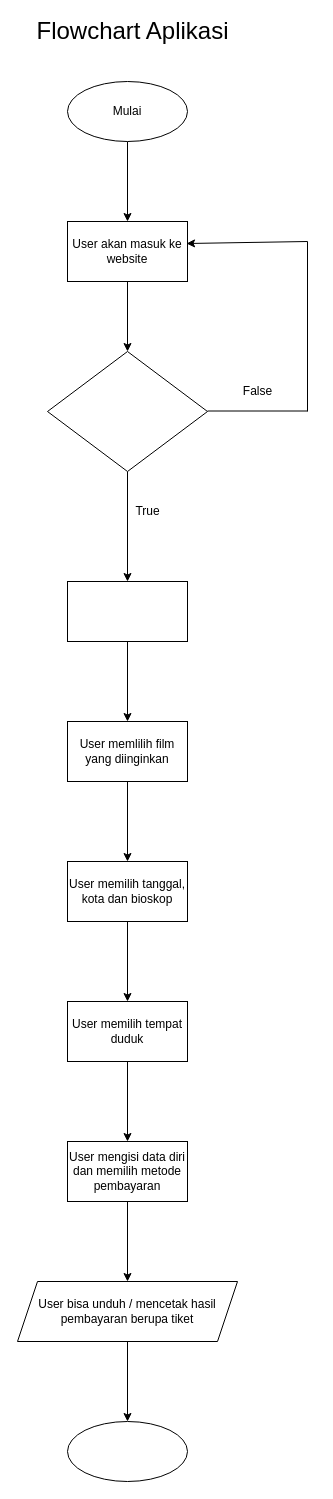
Some shapes in this 333 by 1499 pixel diagram are drawn without their labels. Here are the shapes that lost their labels. From the top down, the box of each, then its label:
(46, 350, 208, 472): email dan password
(66, 580, 188, 642): User masuk ke halaman home
(66, 1420, 188, 1482): Selesai
